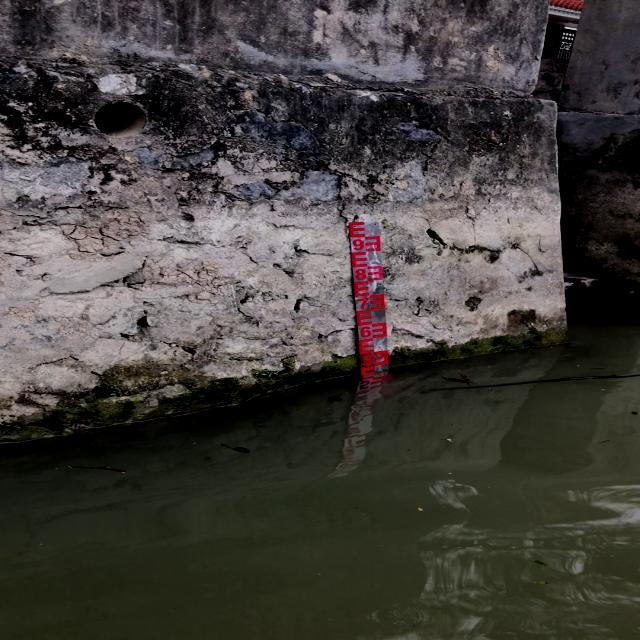ruler: (346, 218, 396, 380)
value: (359, 353, 376, 368), (351, 236, 366, 252), (355, 296, 371, 311), (358, 324, 373, 340), (353, 267, 367, 281)
